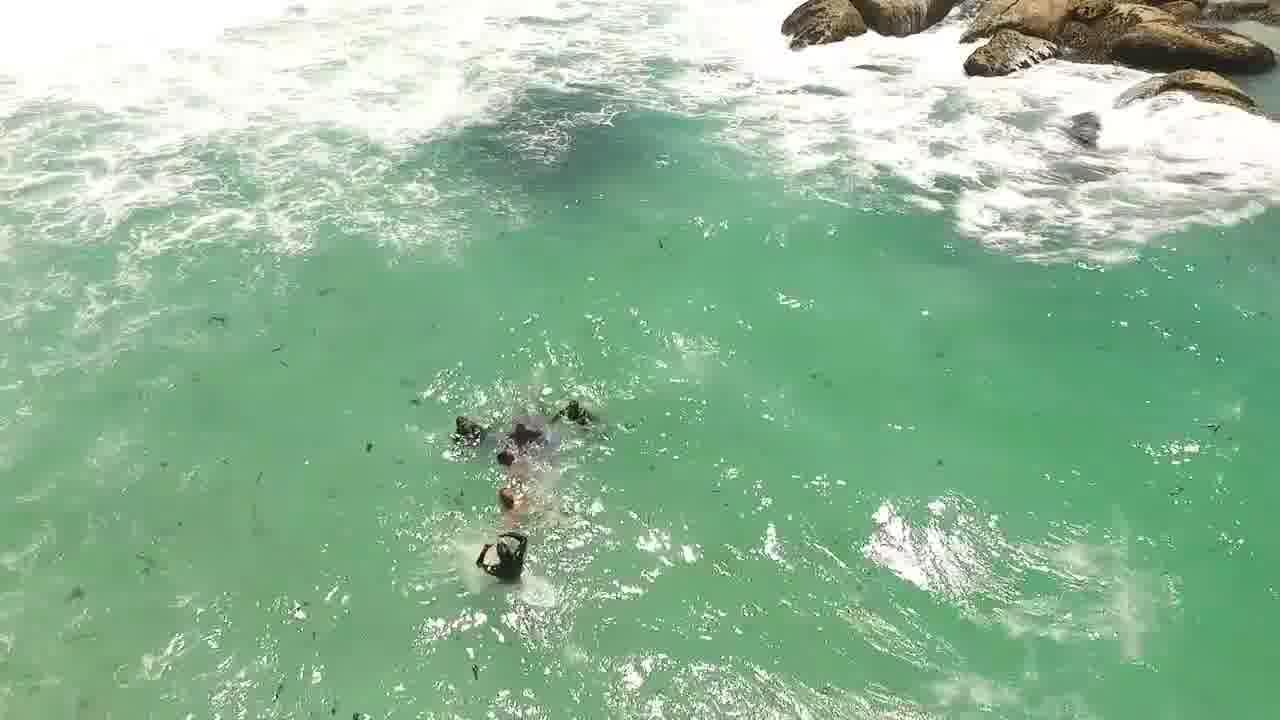swimmer: (473, 529, 532, 580), (555, 391, 607, 440), (485, 437, 537, 476), (488, 475, 541, 513), (441, 405, 489, 445), (503, 409, 554, 441)
